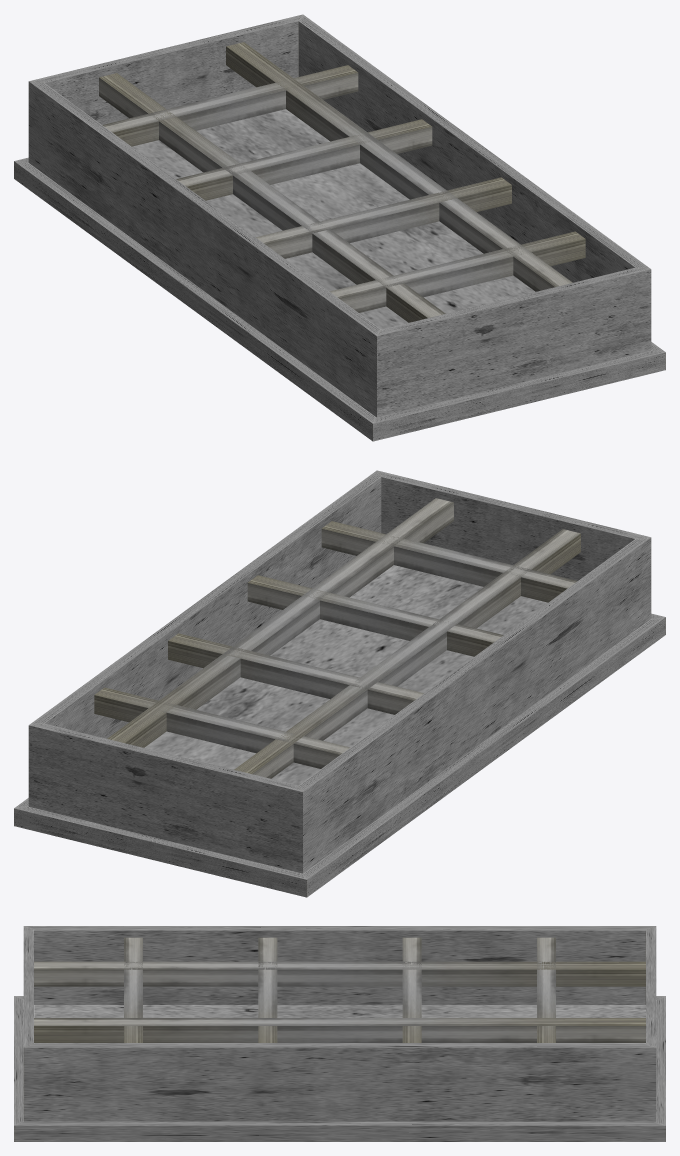
The model's file is ceiling1.fbx.
The picture shows the model from 3 angles, top to bottom: view 1: azimuth 30°, elevation 25°; view 2: azimuth 150°, elevation 25°; view 3: azimuth 270°, elevation 25°; orthographic projection. The views are drawn at different scales.
Parts seen in each view (by area): view 1: ceiling1; view 2: ceiling1; view 3: ceiling1.
Boxes of the visible parts, left/top/right/bottom form: ceiling1: left=14, top=14, right=665, bottom=441; ceiling1: left=14, top=470, right=665, bottom=897; ceiling1: left=14, top=926, right=665, bottom=1141.
Size of the model in its own units: 84.42 by 27.31 by 179.
